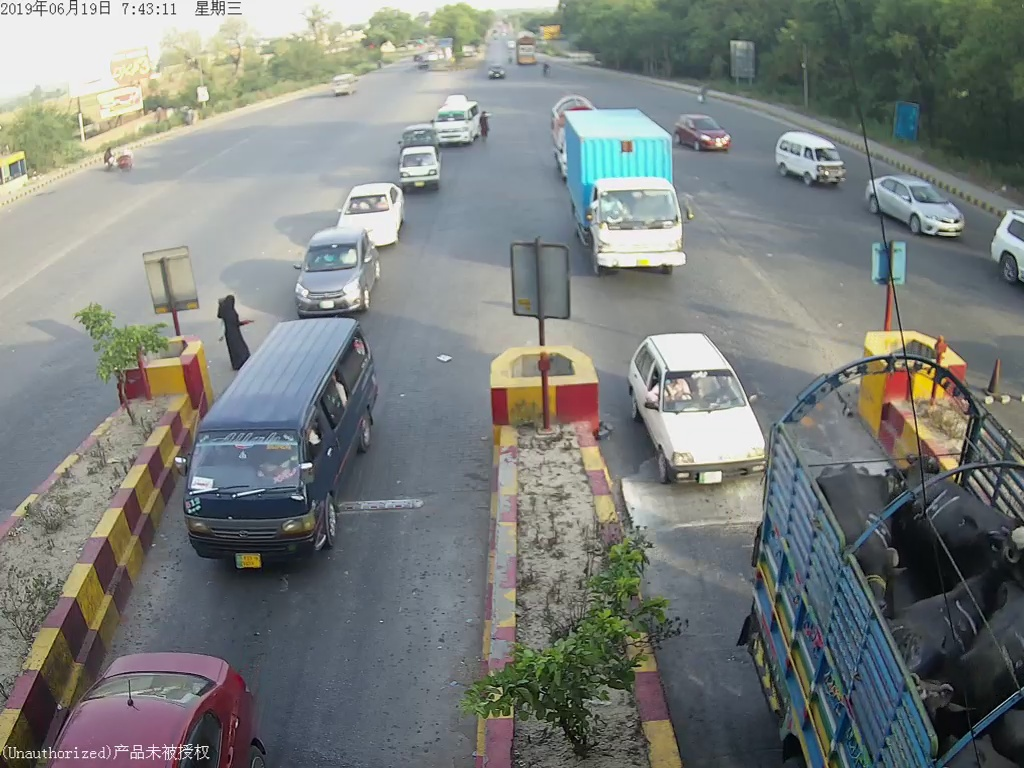Cat-1: (631, 332, 767, 488), (287, 234, 377, 314), (394, 132, 445, 190)
Cat-2: (179, 315, 382, 580), (558, 110, 689, 273)
